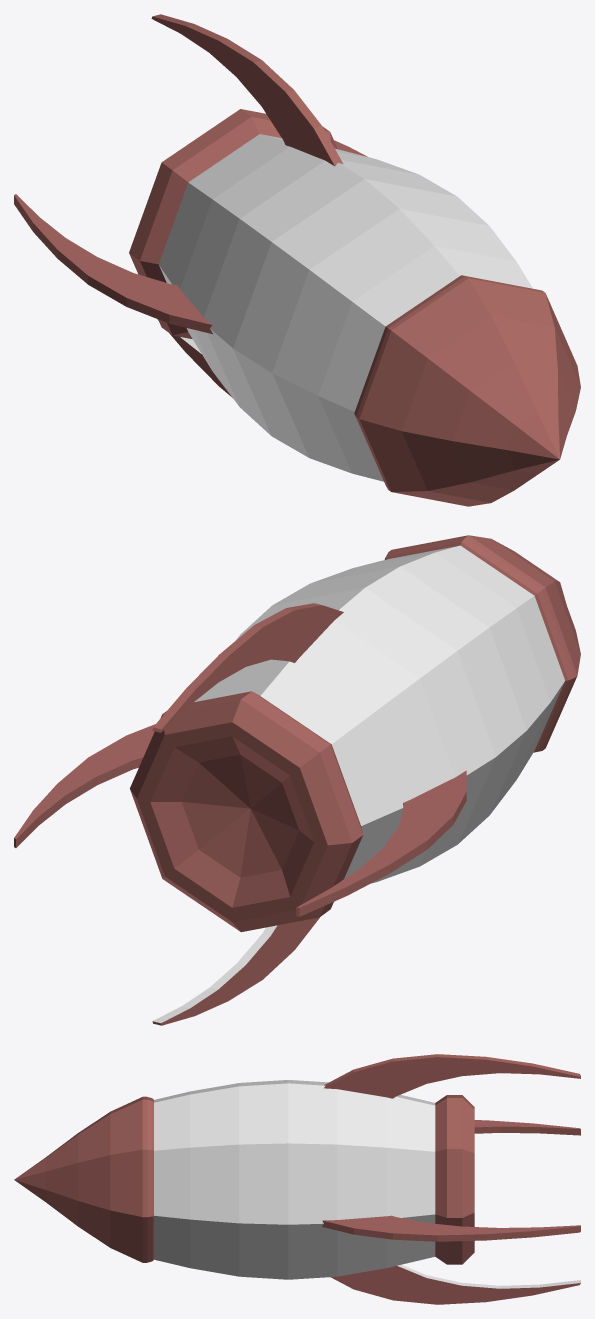
The model's file is Rocket.fbx.
The picture shows the model from 3 angles, top to bottom: view 1: azimuth 30°, elevation 25°; view 2: azimuth 150°, elevation 25°; view 3: azimuth 270°, elevation 25°; orthographic projection. The views are drawn at different scales.
Parts seen in each view (by area): view 1: pCube5; view 2: pCube5; view 3: pCube5.
Part boxes in pixels (<box>): pCube5: <box>14,14,580,506</box>; pCube5: <box>14,535,580,1025</box>; pCube5: <box>14,1054,580,1304</box>.
Bounding box in the file's own units: 118 × 117 × 242.
